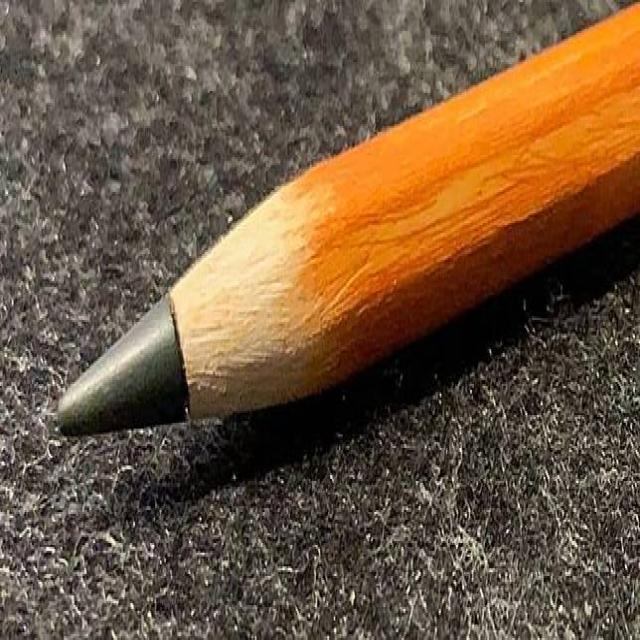pencil: (23, 3, 638, 447)
